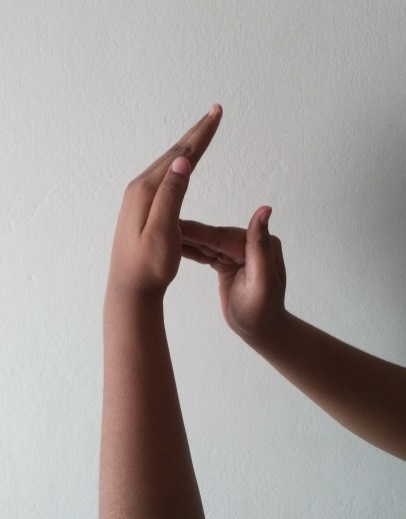ga: (108, 96, 287, 323)
